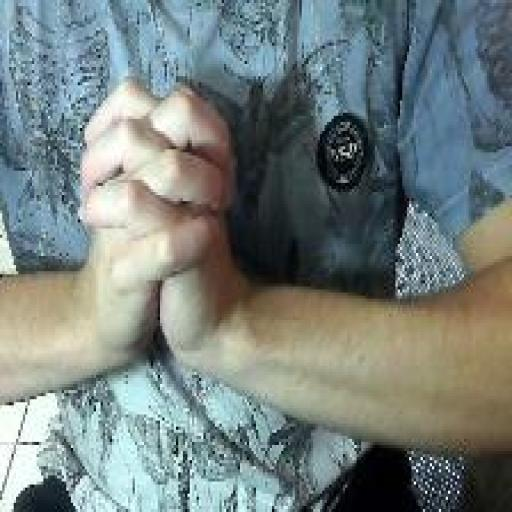Mi -snake-: (74, 73, 239, 387)
